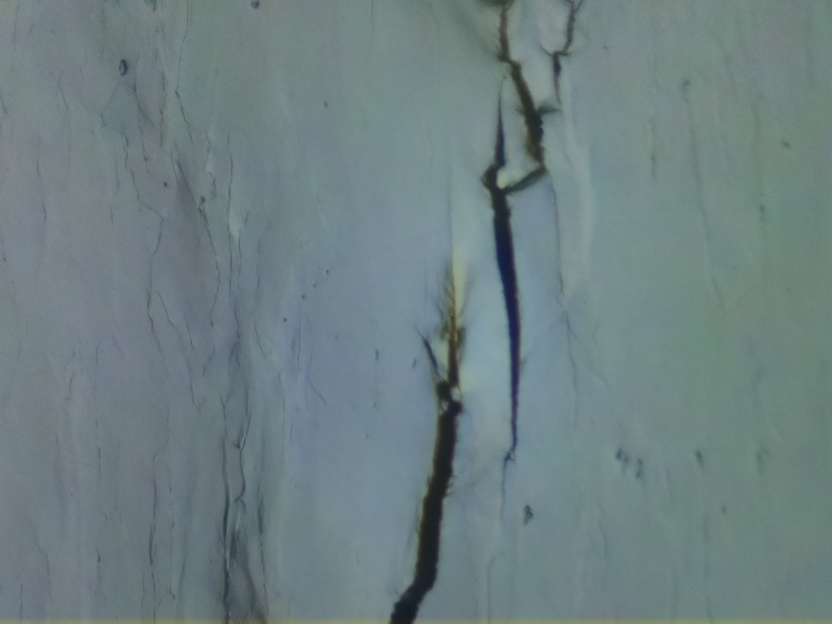crack: (481, 0, 586, 502), (391, 273, 467, 624)
